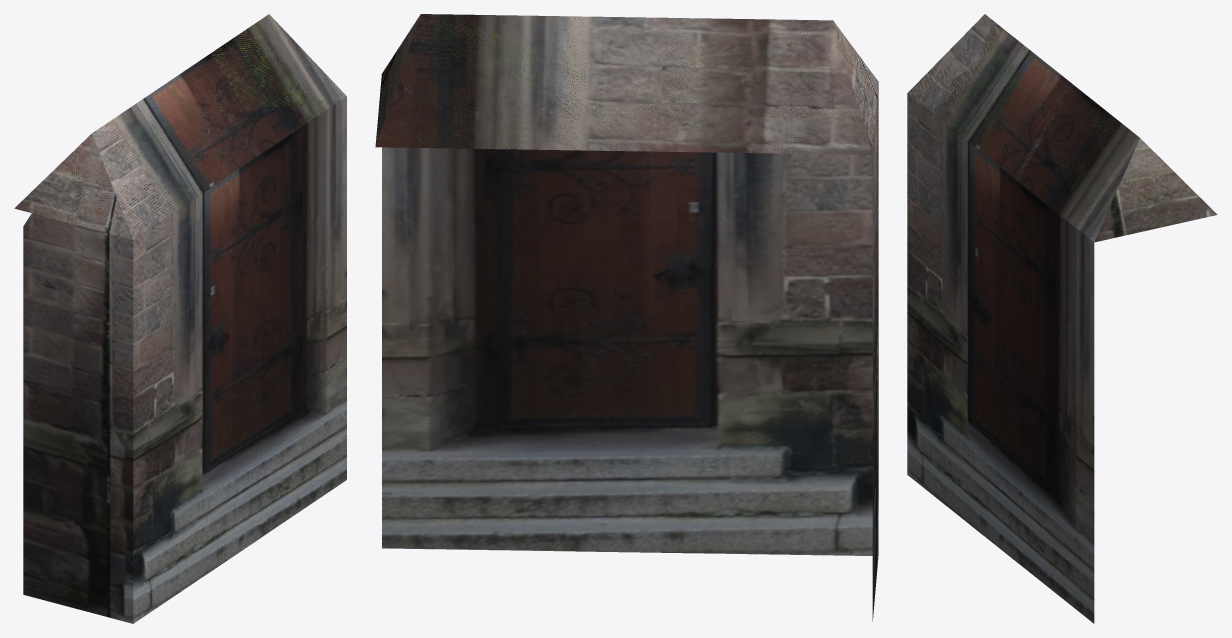
The model's file is chapelleC.obj.
The picture shows the model from 3 angles, left to right: view 1: azimuth 30°, elevation 25°; view 2: azimuth 150°, elevation 25°; view 3: azimuth 270°, elevation 25°; orthographic projection. The views are drawn at different scales.
Visible parts, largest first — view 1: Mesh1 Chapelle_Ste_Catherine Model; view 2: Mesh1 Chapelle_Ste_Catherine Model; view 3: Mesh1 Chapelle_Ste_Catherine Model.
Boxes of the visible parts, x1,y1,x2,y2 form: Mesh1 Chapelle_Ste_Catherine Model: [14, 14, 346, 623]; Mesh1 Chapelle_Ste_Catherine Model: [375, 14, 878, 621]; Mesh1 Chapelle_Ste_Catherine Model: [907, 14, 1217, 623].
Bounding box in the file's own units: 19.68 × 23.85 × 14.6.
